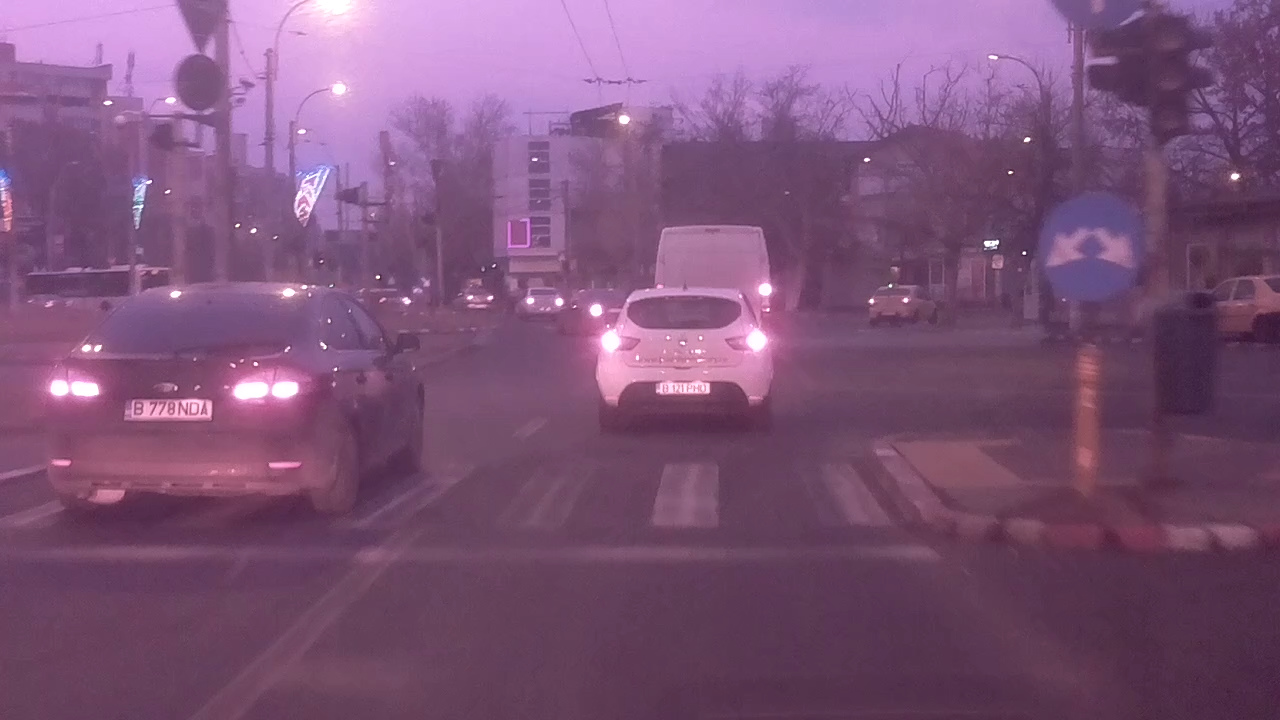license-plate: (119, 395, 216, 423), (651, 380, 713, 396)
